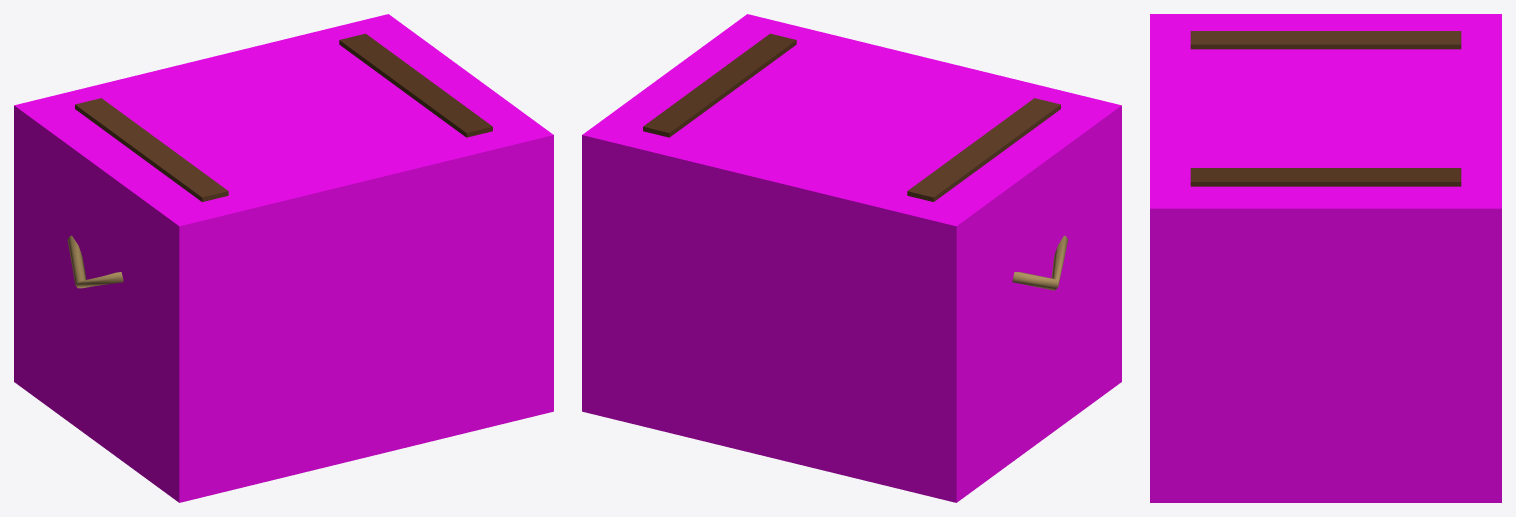
File: PRP_Crate_A.glb
The picture shows the model from 3 angles, left to right: view 1: azimuth 30°, elevation 25°; view 2: azimuth 150°, elevation 25°; view 3: azimuth 270°, elevation 25°; orthographic projection. The views are drawn at different scales.
Visible parts, largest first — view 1: COL_Crate, LID_Crate, PRP_Crate_A_Mesh; view 2: COL_Crate, LID_Crate, PRP_Crate_A_Mesh; view 3: COL_Crate, LID_Crate.
Boxes of the visible parts, bbox=[...] form: COL_Crate: bbox=[14, 14, 553, 502]; LID_Crate: bbox=[75, 33, 492, 201]; PRP_Crate_A_Mesh: bbox=[67, 235, 123, 288]; COL_Crate: bbox=[582, 14, 1121, 502]; LID_Crate: bbox=[643, 33, 1060, 201]; PRP_Crate_A_Mesh: bbox=[1012, 235, 1068, 290]; COL_Crate: bbox=[1150, 14, 1501, 502]; LID_Crate: bbox=[1190, 31, 1461, 186].
Bounding box in the file's own units: 0.8961 × 0.61 × 0.65.
